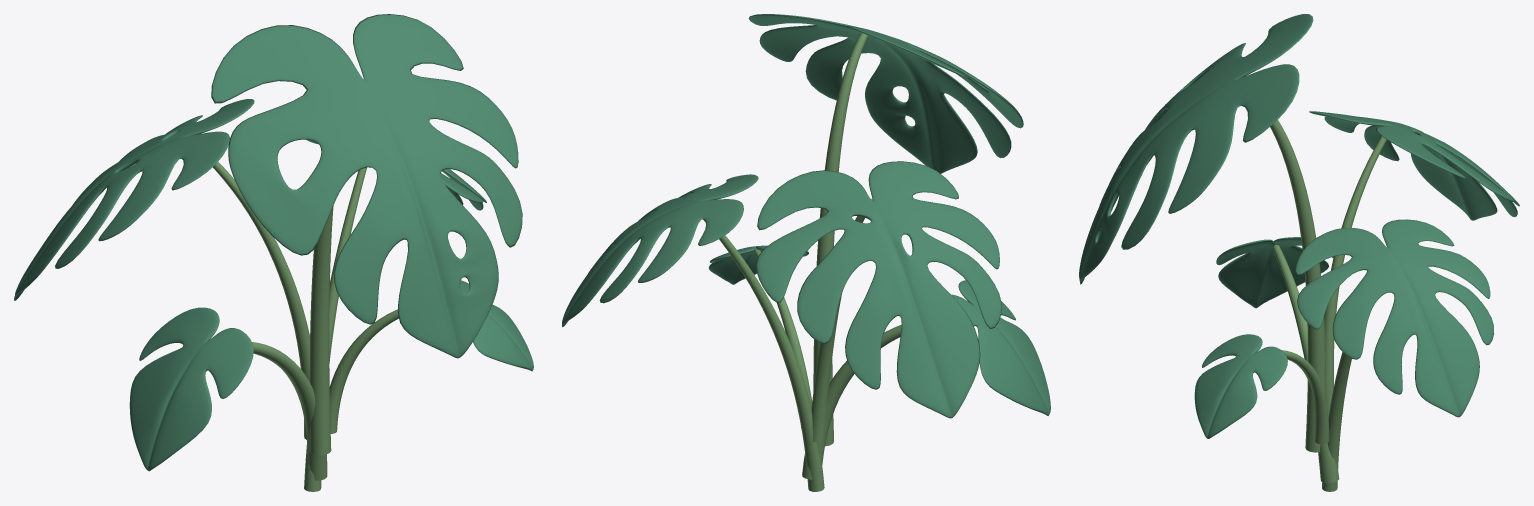
Rendered from monstera.glb.
The picture shows the model from 3 angles, left to right: view 1: azimuth 30°, elevation 25°; view 2: azimuth 150°, elevation 25°; view 3: azimuth 270°, elevation 25°; orthographic projection. The views are drawn at different scales.
Parts seen in each view (by area): view 1: Plane.045, NurbsPath.036, Plane.046, Plane.044, Plane.047, Plane.043; view 2: Plane.044, Plane.045, NurbsPath.036, Plane.043, Plane.046, Plane.047; view 3: Plane.043, Plane.045, NurbsPath.036, Plane.044, Plane.047, Plane.046.
Part boxes in pixels (x1=…): Plane.045: x1=211, y1=14, x2=522, y2=358; NurbsPath.036: x1=189, y1=135, x2=398, y2=491; Plane.046: x1=129, y1=307, x2=253, y2=471; Plane.044: x1=14, y1=99, x2=254, y2=300; Plane.047: x1=460, y1=280, x2=533, y2=371; Plane.043: x1=306, y1=139, x2=486, y2=210; Plane.044: x1=756, y1=161, x2=1001, y2=418; Plane.045: x1=748, y1=14, x2=1023, y2=173; NurbsPath.036: x1=703, y1=32, x2=901, y2=491; Plane.043: x1=562, y1=174, x2=758, y2=327; Plane.046: x1=951, y1=280, x2=1050, y2=415; Plane.047: x1=708, y1=245, x2=808, y2=284; Plane.043: x1=1295, y1=219, x2=1494, y2=417; Plane.045: x1=1079, y1=14, x2=1313, y2=284; NurbsPath.036: x1=1270, y1=120, x2=1386, y2=491; Plane.044: x1=1309, y1=111, x2=1519, y2=220; Plane.047: x1=1194, y1=334, x2=1287, y2=438; Plane.046: x1=1216, y1=237, x2=1333, y2=308.
Bounding box in the file's own units: 21.72 × 23.29 × 21.04.
